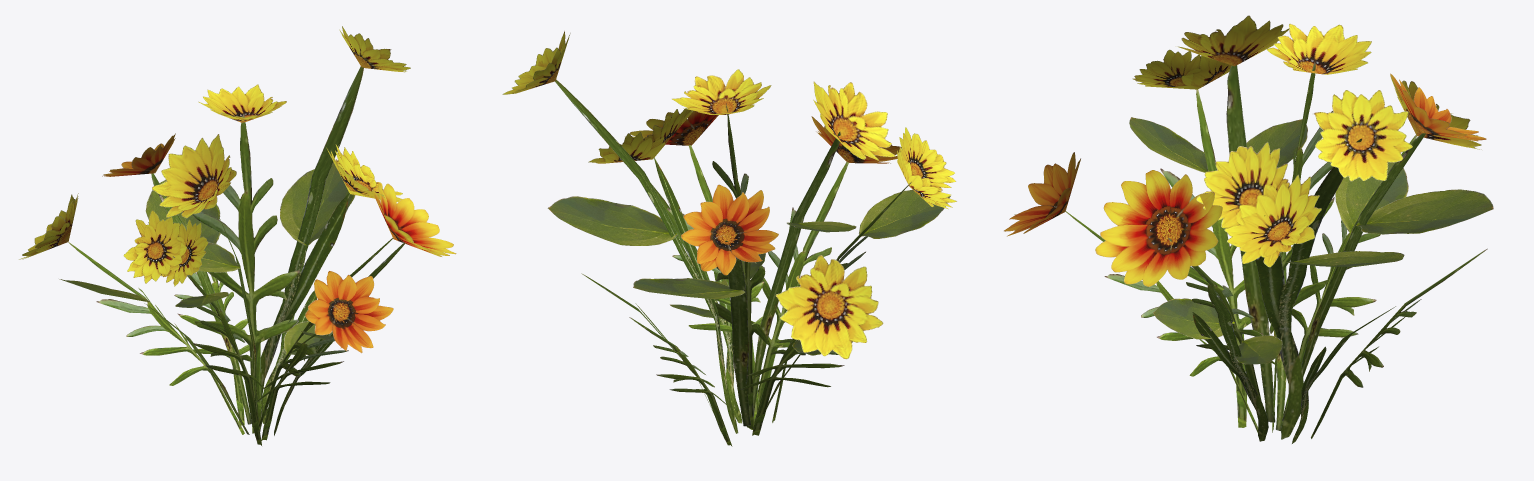
The model's file is PW_Flower_Cluster_06.fbx.
3 views of the same model, side by side, from view 1: azimuth 30°, elevation 25°; view 2: azimuth 150°, elevation 25°; view 3: azimuth 270°, elevation 25° (orthographic). The views are drawn at different scales.
Visible parts, largest first — view 1: PW_Flower_Cluster_06_LOD0; view 2: PW_Flower_Cluster_06_LOD0; view 3: PW_Flower_Cluster_06_LOD0.
Part boxes in pixels (left/top/right/bottom): PW_Flower_Cluster_06_LOD0: left=19, top=26, right=456, bottom=445; PW_Flower_Cluster_06_LOD0: left=502, top=31, right=956, bottom=446; PW_Flower_Cluster_06_LOD0: left=1004, top=15, right=1493, bottom=443.
Size of what is drawn, in the model's own units: 68.22 by 64.69 by 68.12.
1 material, 1 textured.
